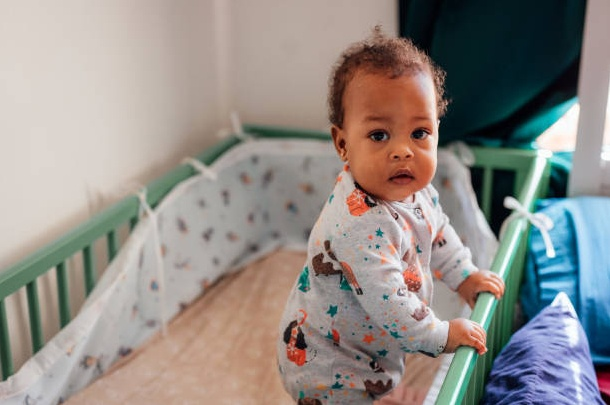baby: (277, 28, 503, 403)
crib: (0, 126, 339, 402)
